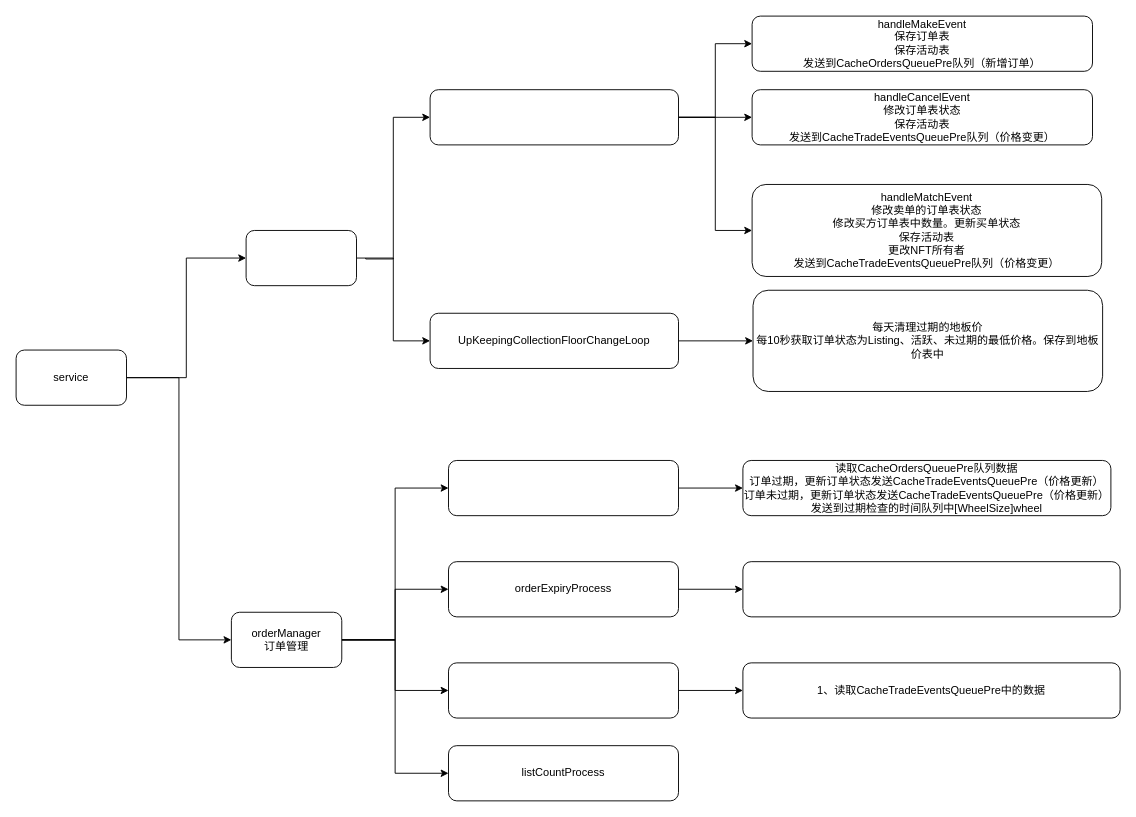
The diagram is 1136 pixels wide and 817 high, and some of its shapes have lost their labels. The shapes that lost their labels are listed below. From the top down, each one's centre as x and y in pixels, then its label:
the point at 553,117: SyncOrderBookEventLoop 获取区块上的事件进行处理 注意区块回滚
the point at 300,258: orderbookIndexer 订单薄
the point at 563,488: ListenNewListingLoop
the point at 931,589: 1、启动时加载所有的状态为活跃的订单放到wheel中
the point at 563,690: floorPriceProcess
